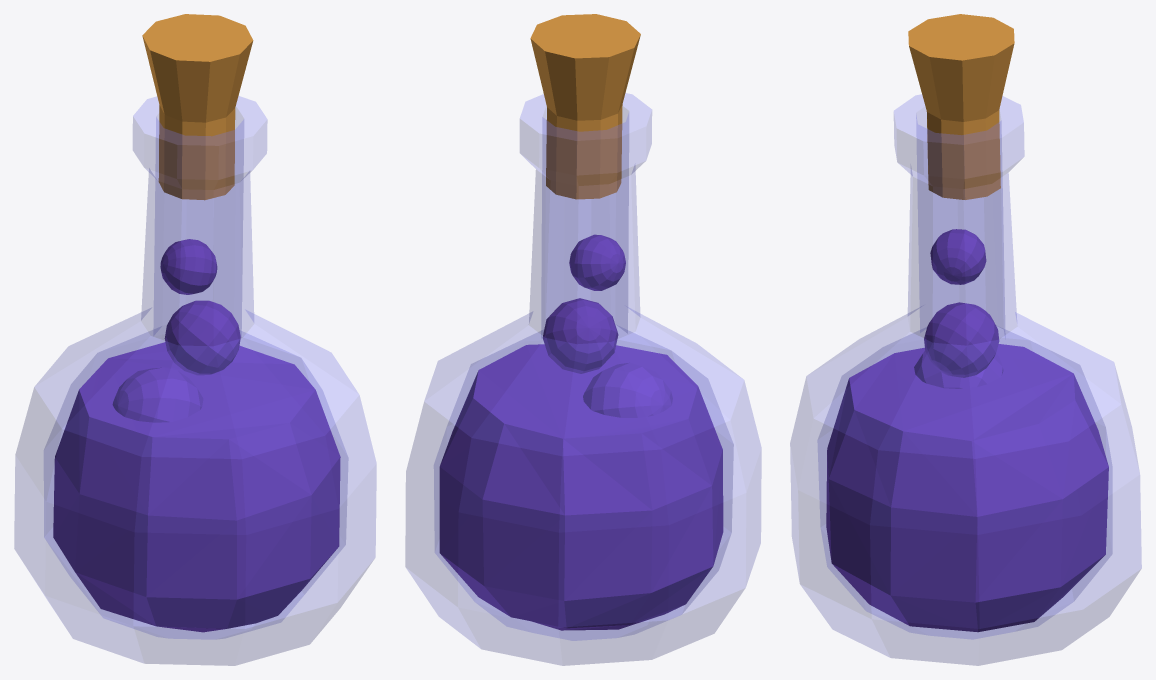
3 renders of one model, left to right at view 1: azimuth 30°, elevation 25°; view 2: azimuth 150°, elevation 25°; view 3: azimuth 270°, elevation 25°, orthographic.
Visible parts, largest first — view 1: node_MeshObject1254105088-PolyGlass24, node_MeshObject1834932224-PolyPaper11; view 2: node_MeshObject1254105088-PolyGlass24, node_MeshObject1834932224-PolyPaper11; view 3: node_MeshObject1254105088-PolyGlass24, node_MeshObject1834932224-PolyPaper11.
Boxes of the visible parts, left/top/right/bottom form: node_MeshObject1254105088-PolyGlass24: left=14, top=96, right=376, bottom=665; node_MeshObject1834932224-PolyPaper11: left=53, top=14, right=340, bottom=632; node_MeshObject1254105088-PolyGlass24: left=405, top=93, right=761, bottom=665; node_MeshObject1834932224-PolyPaper11: left=439, top=14, right=723, bottom=630; node_MeshObject1254105088-PolyGlass24: left=790, top=94, right=1141, bottom=665; node_MeshObject1834932224-PolyPaper11: left=826, top=14, right=1108, bottom=632.
Size of the model in its own units: 0.1897 by 0.3409 by 0.1853.
